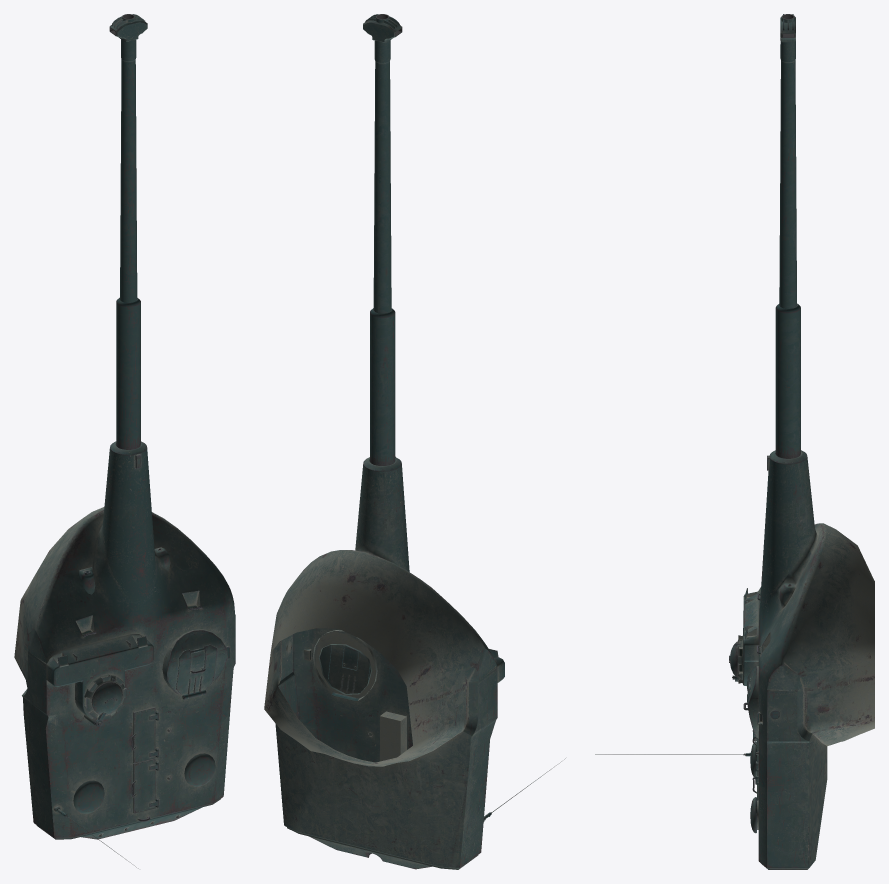
The model's file is Gun_02.glb.
The picture shows the model from 3 angles, left to right: view 1: azimuth 30°, elevation 25°; view 2: azimuth 150°, elevation 25°; view 3: azimuth 270°, elevation 25°; orthographic projection. The views are drawn at different scales.
Visible parts, largest first — view 1: set_0_group_0; view 2: set_0_group_0; view 3: set_0_group_0.
Part boxes in pixels (x1,y1,x2,y2): set_0_group_0: (14,14,235,868); set_0_group_0: (264,14,565,869); set_0_group_0: (595,14,874,869).
Size of the model in its own units: 2.5 by 9.95 by 3.06.
Materials: 1 (1 with a texture image).
